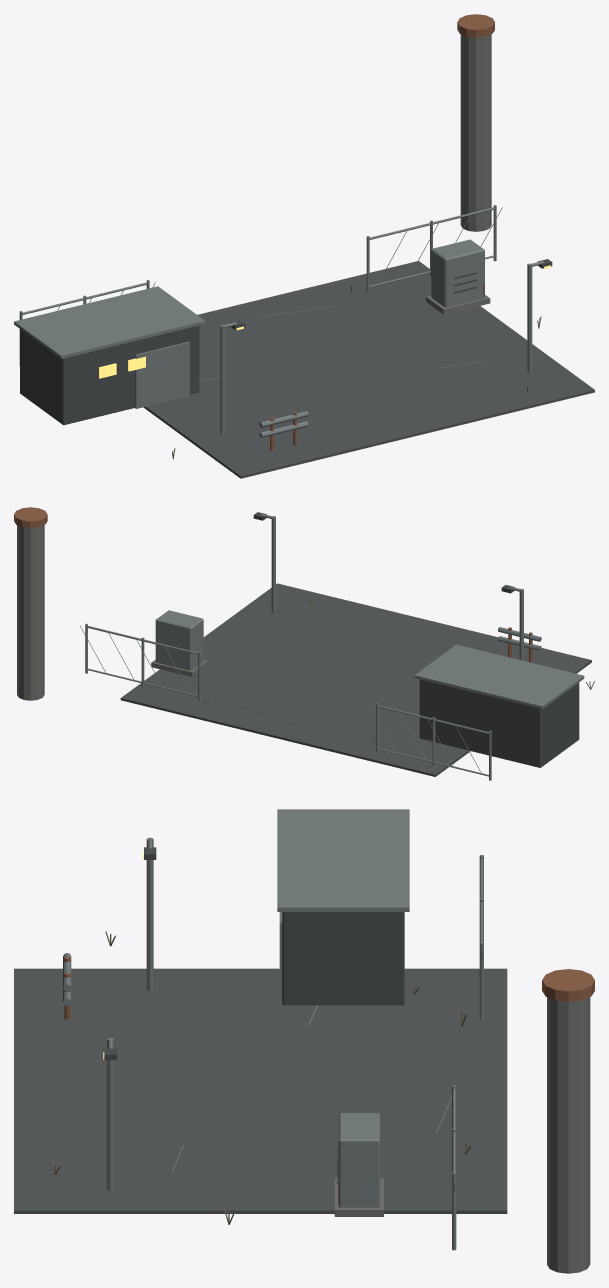
The model's file is factory-dusk.glb.
3 renders of one model, top to bottom at view 1: azimuth 30°, elevation 25°; view 2: azimuth 150°, elevation 25°; view 3: azimuth 270°, elevation 25°, orthographic. The views are drawn at different scales.
Visible parts, largest first — view 1: Asphalt apron, Service warehouse, Warehouse roof, Distant smokestack, Transformer cabinet, Loading door, Smokestack rim, Lamp 1 pole, Lamp 0 pole; view 2: Asphalt apron, Service warehouse, Warehouse roof, Distant smokestack, Transformer cabinet, Smokestack rim, Lamp 1 pole, Transformer plinth; view 3: Asphalt apron, Warehouse roof, Distant smokestack, Service warehouse, Transformer cabinet, Smokestack rim, Lamp 1 pole, Lamp 0 pole, Transformer plinth.
Boxes of the visible parts, x1,y1,x2,y2 form: Asphalt apron: [143, 261, 594, 478]; Service warehouse: [20, 325, 199, 425]; Warehouse roof: [14, 286, 205, 358]; Distant smokestack: [460, 34, 491, 231]; Transformer cabinet: [431, 239, 484, 307]; Loading door: [135, 341, 189, 408]; Smokestack rim: [457, 14, 494, 37]; Lamp 1 pole: [527, 263, 532, 372]; Lamp 0 pole: [220, 324, 225, 433]; Asphalt apron: [120, 583, 591, 776]; Service warehouse: [419, 679, 579, 767]; Warehouse roof: [414, 644, 584, 709]; Distant smokestack: [17, 525, 44, 700]; Transformer cabinet: [155, 610, 203, 670]; Smokestack rim: [14, 507, 47, 528]; Lamp 1 pole: [271, 516, 275, 613]; Transformer plinth: [151, 659, 207, 676]; Asphalt apron: [14, 968, 507, 1213]; Warehouse roof: [277, 809, 409, 911]; Distant smokestack: [547, 997, 590, 1273]; Service warehouse: [282, 912, 404, 1005]; Transformer cabinet: [338, 1113, 379, 1207]; Smokestack rim: [542, 969, 594, 1001]; Lamp 1 pole: [107, 1037, 114, 1190]; Lamp 0 pole: [146, 837, 153, 990]; Transformer plinth: [334, 1178, 383, 1216].
Size of the model in its own units: 21.92 by 8.06 by 14.72.
